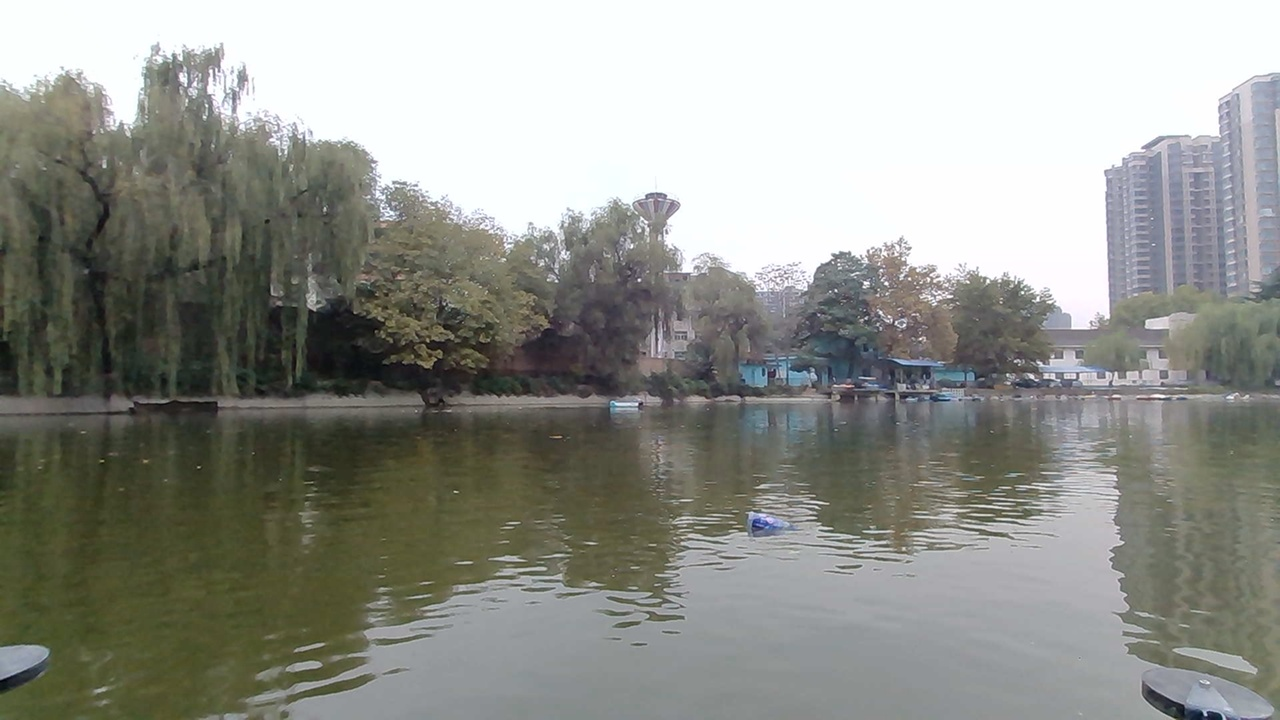bottle: (748, 509, 793, 543)
